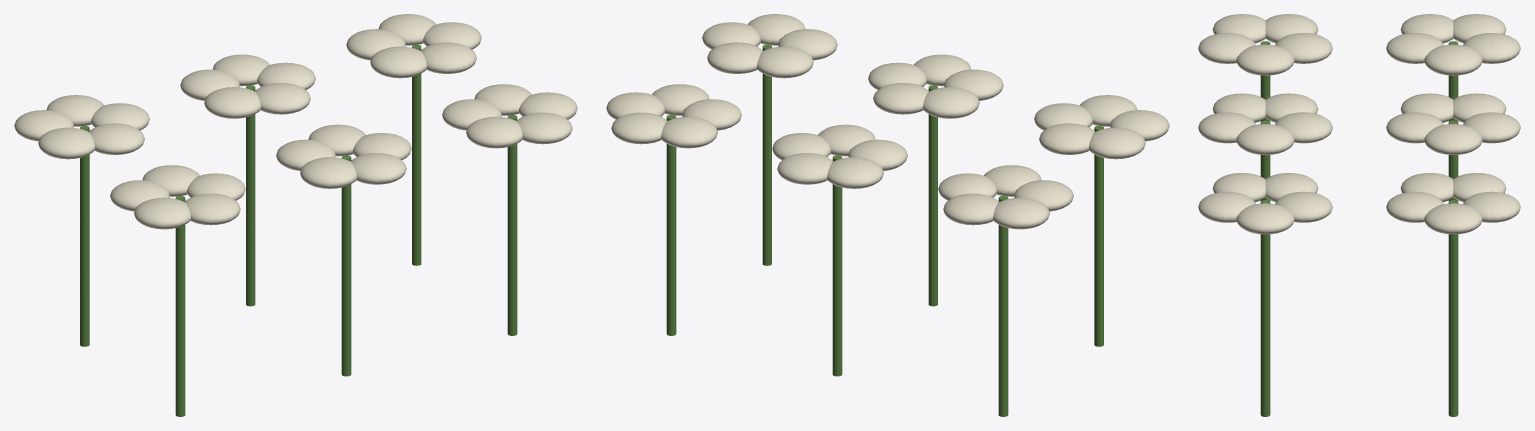
Rendered from flores.glb.
The picture shows the model from 3 angles, left to right: view 1: azimuth 30°, elevation 25°; view 2: azimuth 150°, elevation 25°; view 3: azimuth 270°, elevation 25°; orthographic projection.
Visible parts, largest first — view 1: Haste.004, Haste.003, Haste.005, Haste.001, Haste, Haste.002, Pétala.012, Pétala.002, Pétala.017, Pétala.027, Pétala.022, Pétala.007 (+24 smaller); view 2: Haste.001, Haste, Haste.002, Haste.004, Haste.003, Haste.005, Pétala.028, Pétala.003, Pétala.013, Pétala.018, Pétala.008, Pétala.023 (+24 smaller); view 3: Haste.002, Haste.005, Pétala.010, Pétala.025, Pétala, Pétala.015, Pétala.005, Pétala.020, Pétala.006, Pétala.009, Pétala.021, Pétala.024 (+24 smaller).
Boxes of the visible parts, left/top/right/bottom form: Haste.004: left=341, top=155, right=351, bottom=376; Haste.003: left=175, top=196, right=185, bottom=416; Haste.005: left=507, top=115, right=517, bottom=335; Haste.001: left=246, top=85, right=255, bottom=306; Haste: left=80, top=125, right=89, bottom=346; Haste.002: left=412, top=44, right=421, bottom=265; Pétala.012: left=370, top=46, right=426, bottom=78; Pétala.002: left=38, top=127, right=94, bottom=159; Pétala.017: left=134, top=197, right=190, bottom=229; Pétala.027: left=466, top=116, right=522, bottom=148; Pétala.022: left=300, top=157, right=356, bottom=188; Pétala.007: left=204, top=87, right=260, bottom=118; Haste.001: left=832, top=155, right=842, bottom=376; Haste: left=998, top=196, right=1008, bottom=416; Haste.002: left=666, top=115, right=676, bottom=335; Haste.004: left=928, top=85, right=937, bottom=306; Haste.003: left=1094, top=125, right=1103, bottom=346; Haste.005: left=762, top=44, right=771, bottom=265; Pétala.028: left=757, top=46, right=813, bottom=78; Pétala.003: left=993, top=197, right=1049, bottom=229; Pétala.013: left=661, top=116, right=717, bottom=148; Pétala.018: left=1089, top=127, right=1145, bottom=159; Pétala.008: left=827, top=157, right=883, bottom=188; Pétala.023: left=923, top=87, right=979, bottom=118; Haste.002: left=1448, top=200, right=1458, bottom=416; Haste.005: left=1260, top=200, right=1270, bottom=416; Pétala.010: left=1424, top=203, right=1482, bottom=234; Pétala.025: left=1236, top=203, right=1294, bottom=234; Pétala: left=1424, top=44, right=1482, bottom=75; Pétala.015: left=1236, top=44, right=1294, bottom=75; Pétala.005: left=1424, top=124, right=1482, bottom=154; Pétala.020: left=1236, top=124, right=1294, bottom=154; Pétala.006: left=1386, top=112, right=1443, bottom=143; Pétala.009: left=1463, top=112, right=1520, bottom=143; Pétala.021: left=1198, top=112, right=1255, bottom=143; Pétala.024: left=1275, top=112, right=1332, bottom=143.
Bounding box in the file's own units: 2.16 × 1.05 × 1.37.
